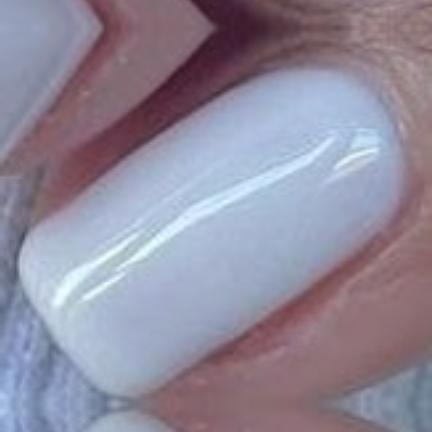Nail: (15, 63, 412, 399), (83, 408, 178, 432)
